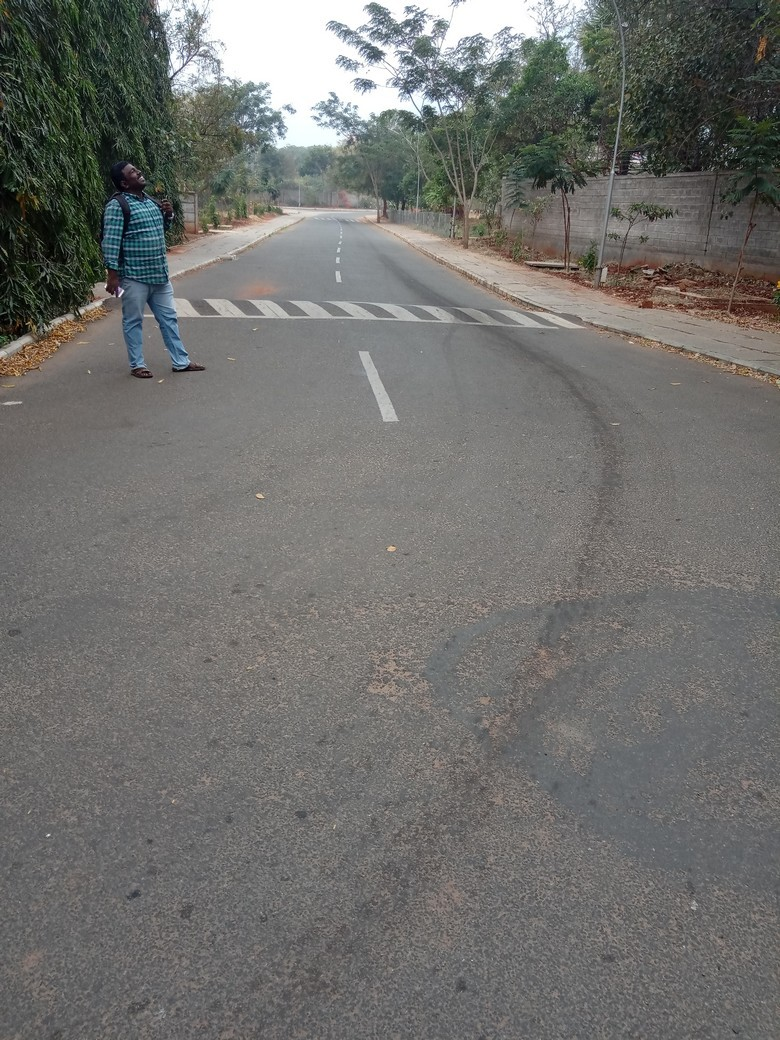bump: (176, 297, 591, 329)
